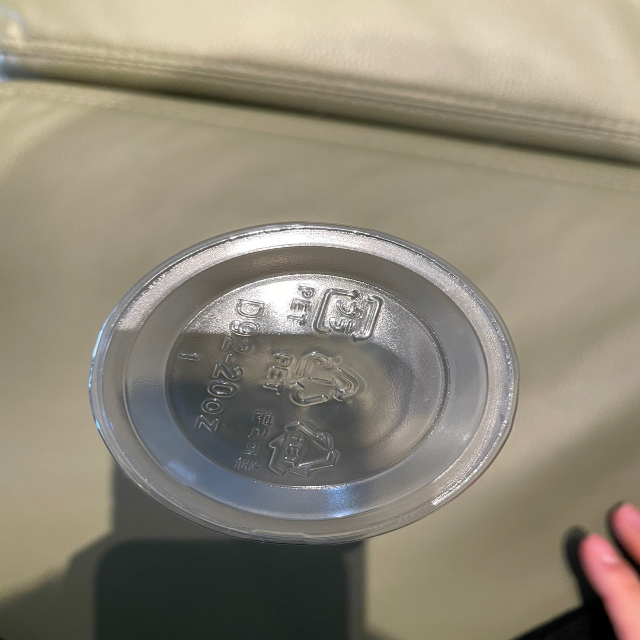pet: (232, 409, 346, 482), (286, 274, 389, 346), (262, 344, 366, 411)
